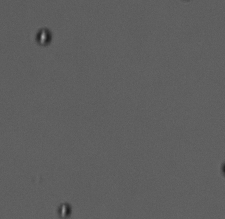Living Cell: (35, 27, 50, 46), (56, 201, 72, 215)
